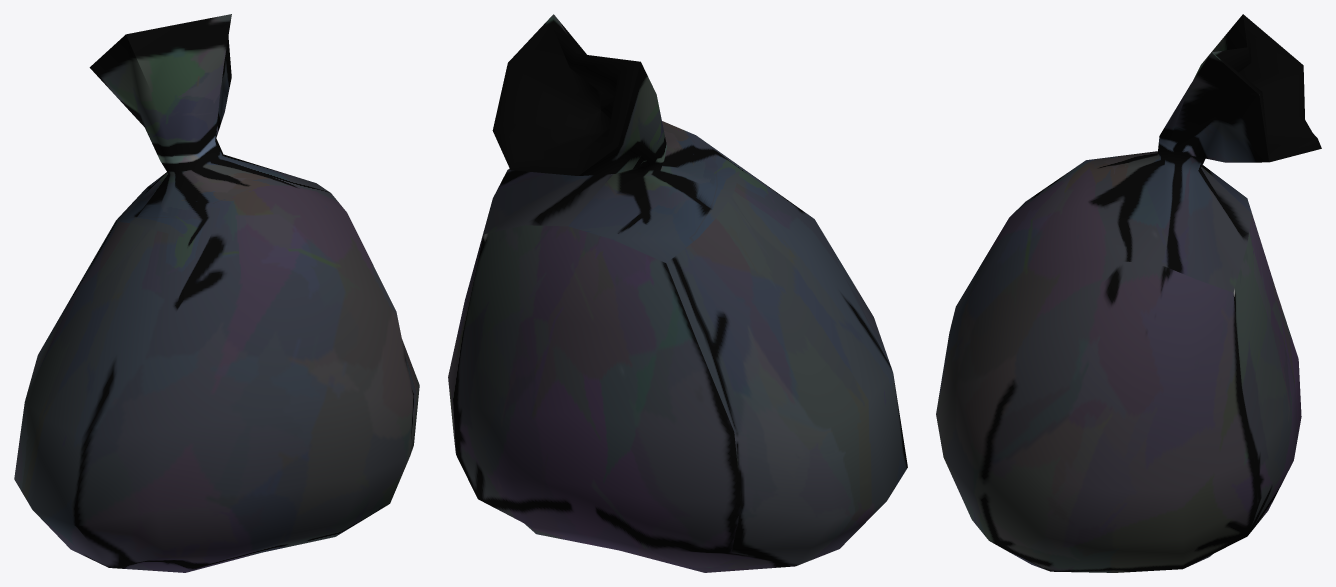
The model's file is TrashBag_S.glb.
The picture shows the model from 3 angles, left to right: view 1: azimuth 30°, elevation 25°; view 2: azimuth 150°, elevation 25°; view 3: azimuth 270°, elevation 25°; orthographic projection. The views are drawn at different scales.
Parts seen in each view (by area): view 1: TrashBagS; view 2: TrashBagS; view 3: TrashBagS.
Boxes of the visible parts, bbox=[...] form: TrashBagS: bbox=[14, 14, 419, 572]; TrashBagS: bbox=[448, 14, 907, 572]; TrashBagS: bbox=[936, 14, 1321, 572].
Size of the model in its own units: 0.6447 by 0.7931 by 0.5501.
1 material, 1 textured.
